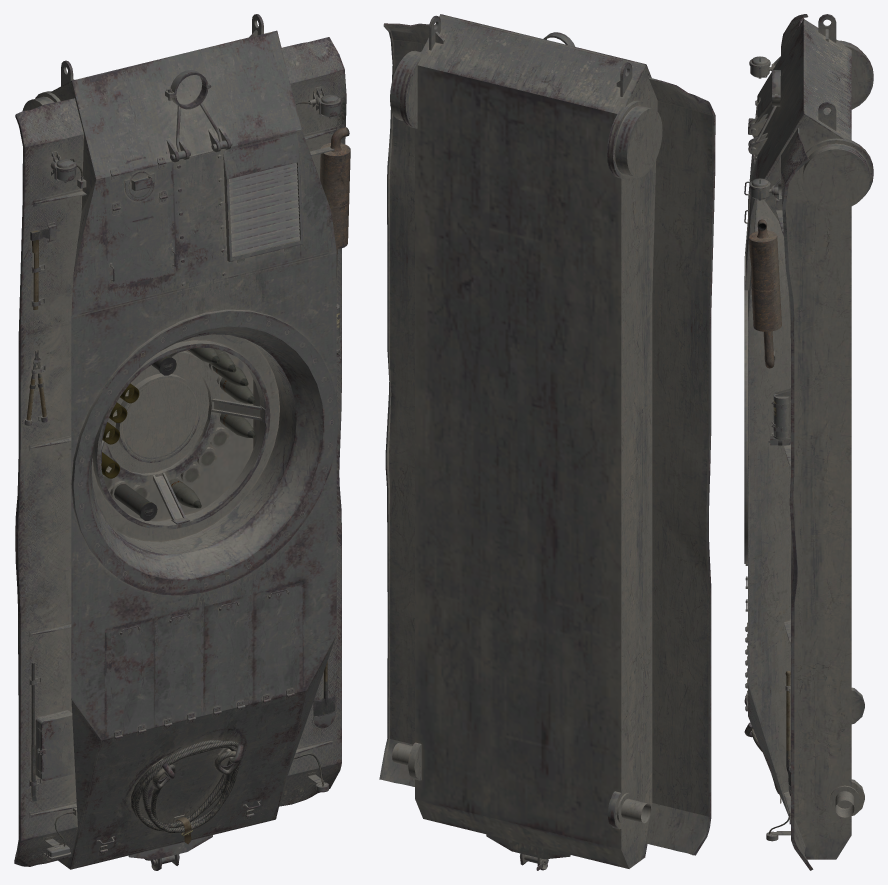
The model's file is Hull.glb.
3 renders of one model, left to right at view 1: azimuth 30°, elevation 25°; view 2: azimuth 150°, elevation 25°; view 3: azimuth 270°, elevation 25°, orthographic. The views are drawn at different scales.
Parts seen in each view (by area): view 1: set_0_group_0; view 2: set_0_group_0; view 3: set_0_group_0.
Part boxes in pixels (x1,y1,x2,y2): set_0_group_0: [14, 14, 350, 870]; set_0_group_0: [379, 14, 715, 870]; set_0_group_0: [744, 14, 873, 870].
Size of the model in its own units: 2.95 by 7.21 by 1.08.
1 material, 1 textured.
